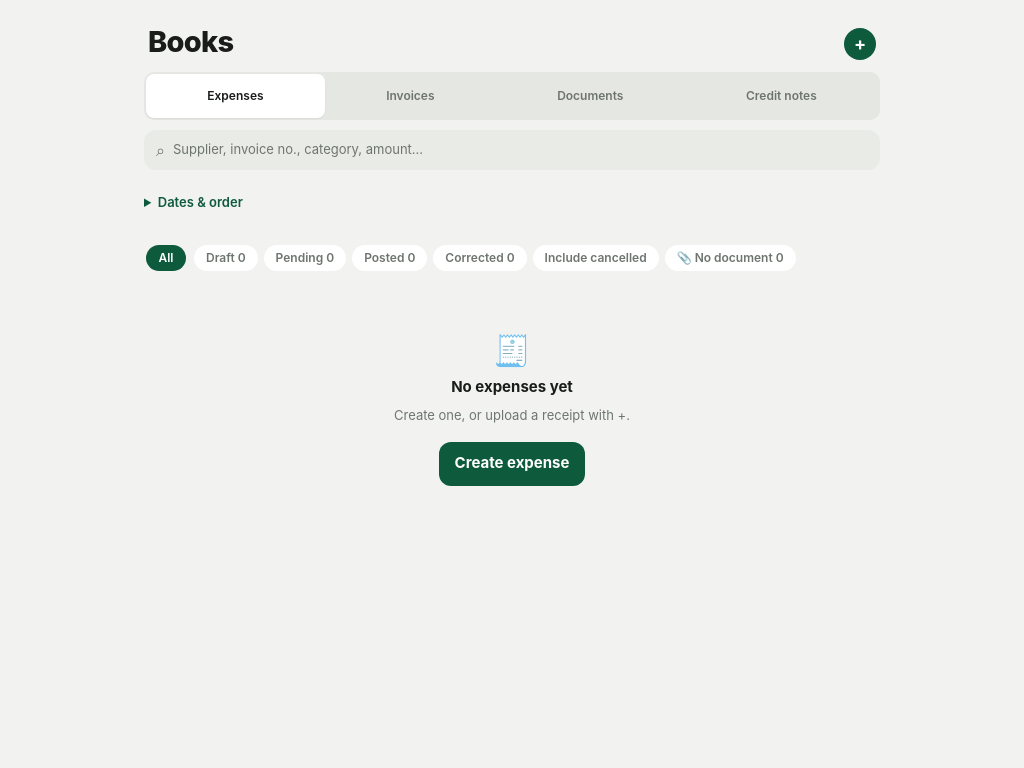
Books empty states (issue #280) › initial empty: "yet" + Create expense opens the + menu’s sheet; cancel keeps the URL
This screenshot has width=1024, height=768.
Expected: the text "No expenses yet" is shown, [451,376,573,398]
Click the button "Create expense" at (512, 464), box [439,442,586,486]
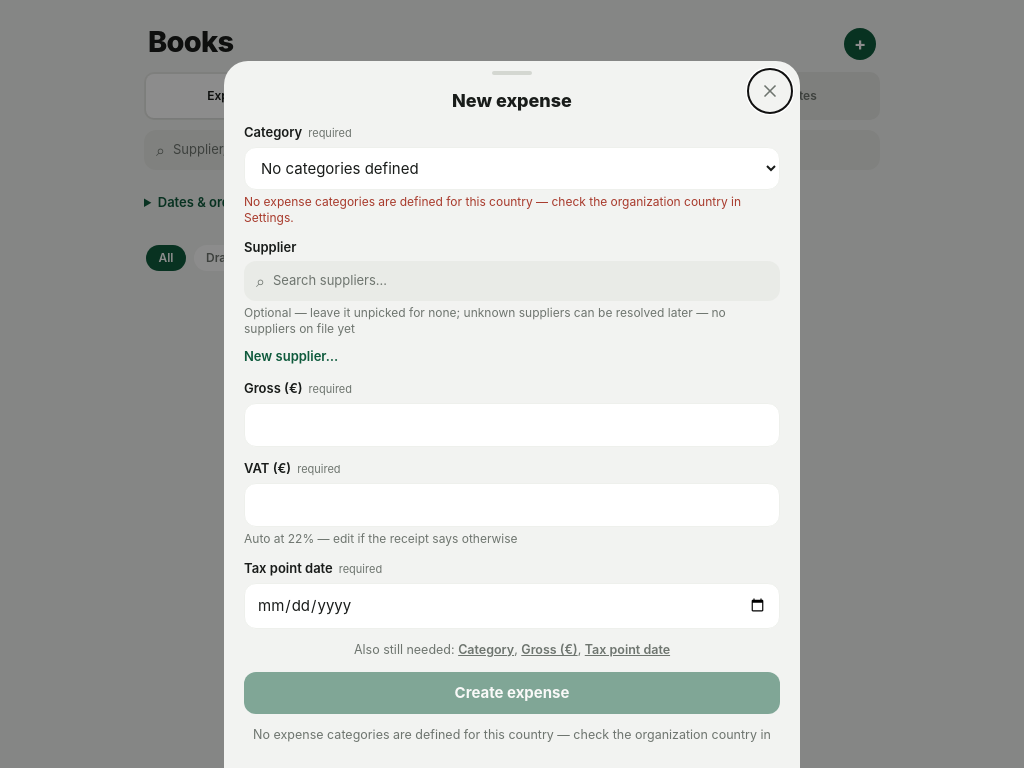
Expected: the dialog "New expense" is shown, [224,62,800,767]
Press Escape in the button named "Close", box [748,70,792,114]
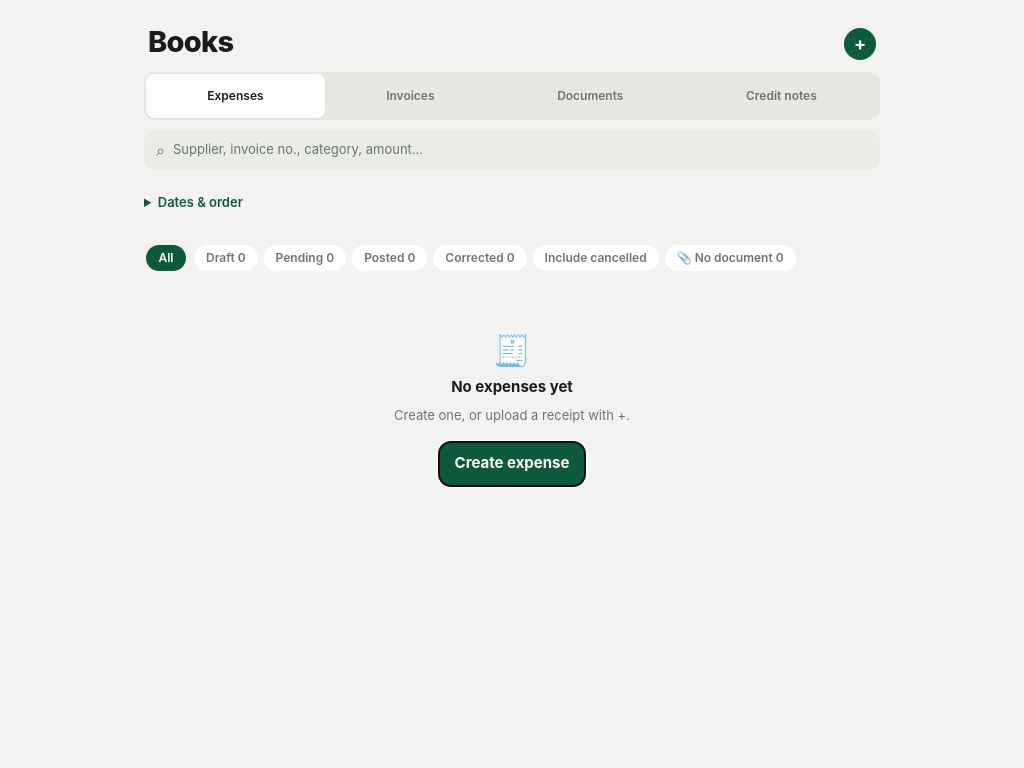
Expected: the heading "New expense" is gone
